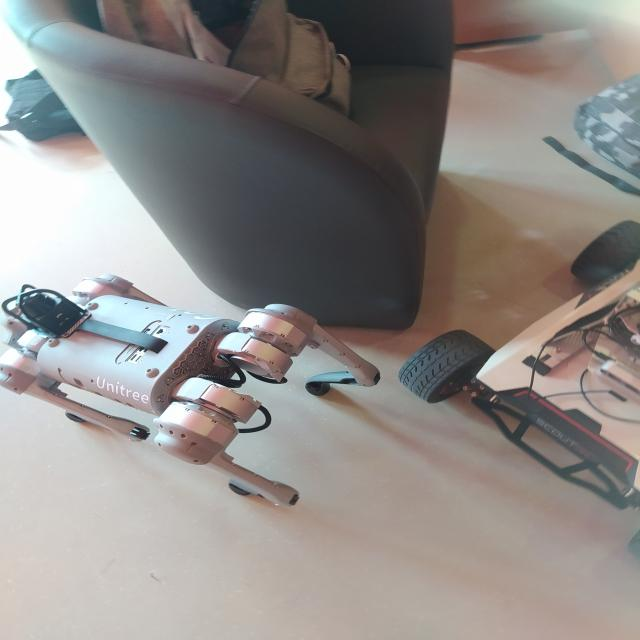unitree-go1-robot: (0, 271, 391, 514)
